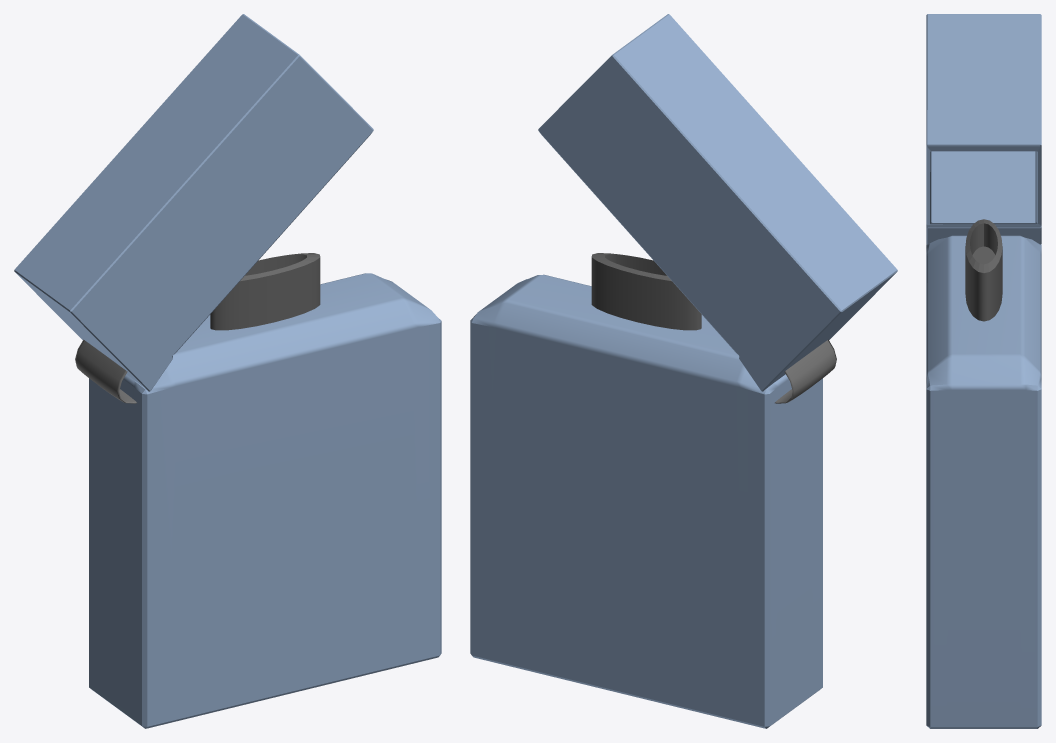
File: briquet.fbx
3 views of the same model, side by side, from view 1: azimuth 30°, elevation 25°; view 2: azimuth 150°, elevation 25°; view 3: azimuth 270°, elevation 25° (orthographic).
Parts seen in each view (by area): view 1: briquet2_pCube3; view 2: briquet2_pCube3; view 3: briquet2_pCube3.
Part boxes in pixels (x1=…): briquet2_pCube3: x1=14, y1=14, x2=441, y2=728; briquet2_pCube3: x1=470, y1=14, x2=897, y2=728; briquet2_pCube3: x1=926, y1=14, x2=1041, y2=728.
Bounding box in the file's own units: 0.3799 × 0.6208 × 0.1007.
